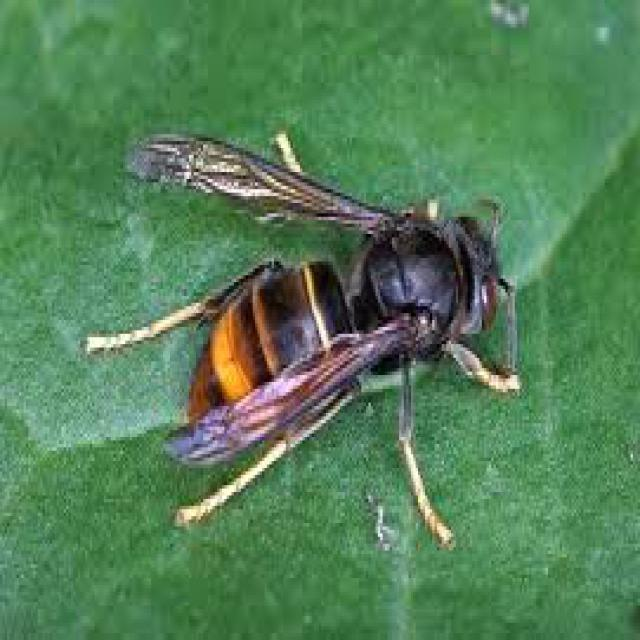Vespa Velutina: (76, 114, 528, 569)
